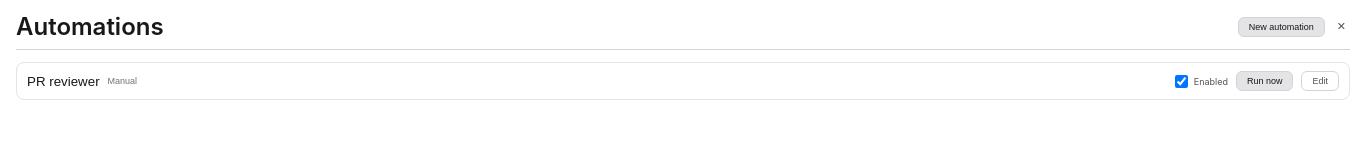
Scenario: AutomationsPanel › shows an inline error on Run now rejection without disabling the button afterward
Click the button with test id "automation-run-now-d1".
click(1265, 81)  # box 1236,71 -> 1294,91
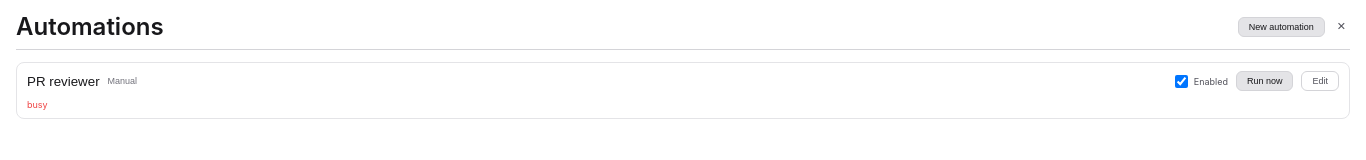
Check: the text with test id "automation-run-error-d1" reads "busy", box 27,99 -> 48,110
